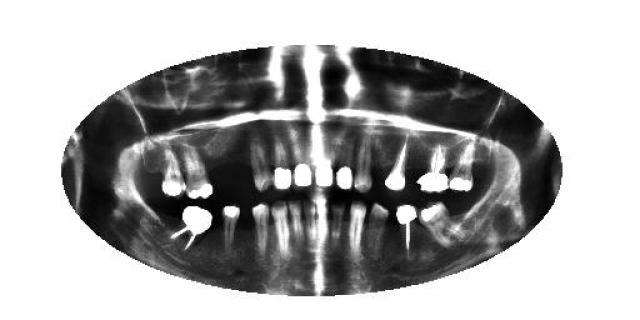Fillings: (417, 200, 465, 246), (184, 146, 214, 199), (446, 140, 475, 190), (271, 136, 294, 190), (162, 146, 186, 196), (314, 136, 335, 189), (292, 138, 314, 188), (222, 205, 238, 253), (338, 150, 353, 189)
Implant: (168, 206, 214, 252), (418, 145, 450, 191), (386, 132, 406, 192), (396, 204, 419, 256)
